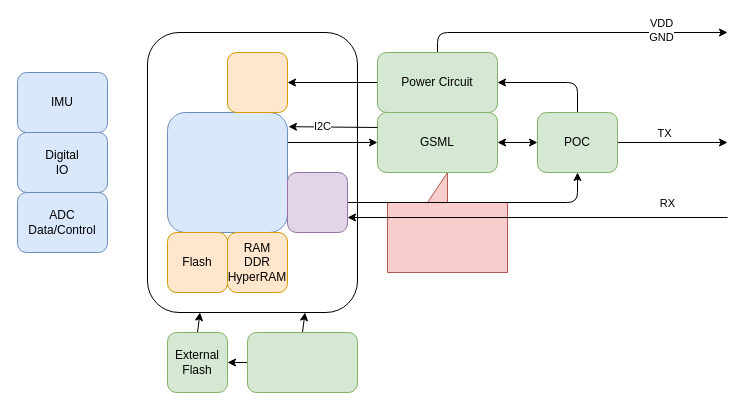
Image size: 753x410. Some labels were removed from this diagram. Each missing label, with the centre of its shape:
"FPGA" goes at point 227,172.
"JTAG Debugger/Programmer" goes at point 302,362.
"Limit by NP" goes at point 447,222.
"Power" goes at point 257,82.
"SerDes-InFPGA" goes at point 317,202.
